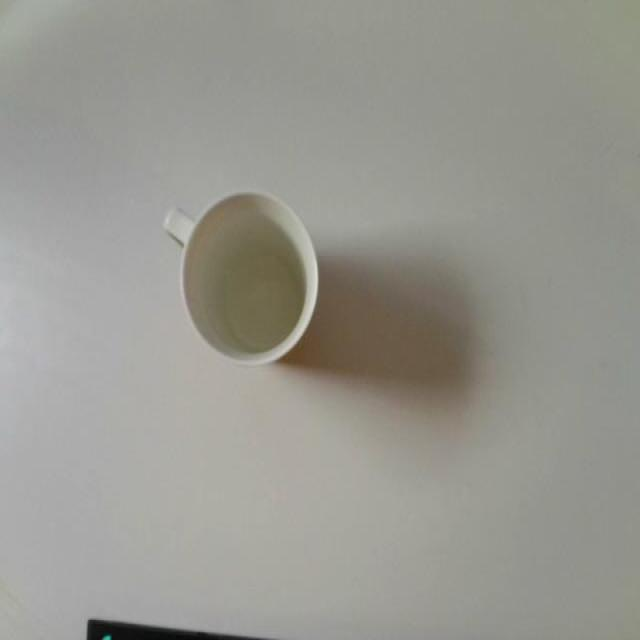cup: (152, 158, 352, 388)
